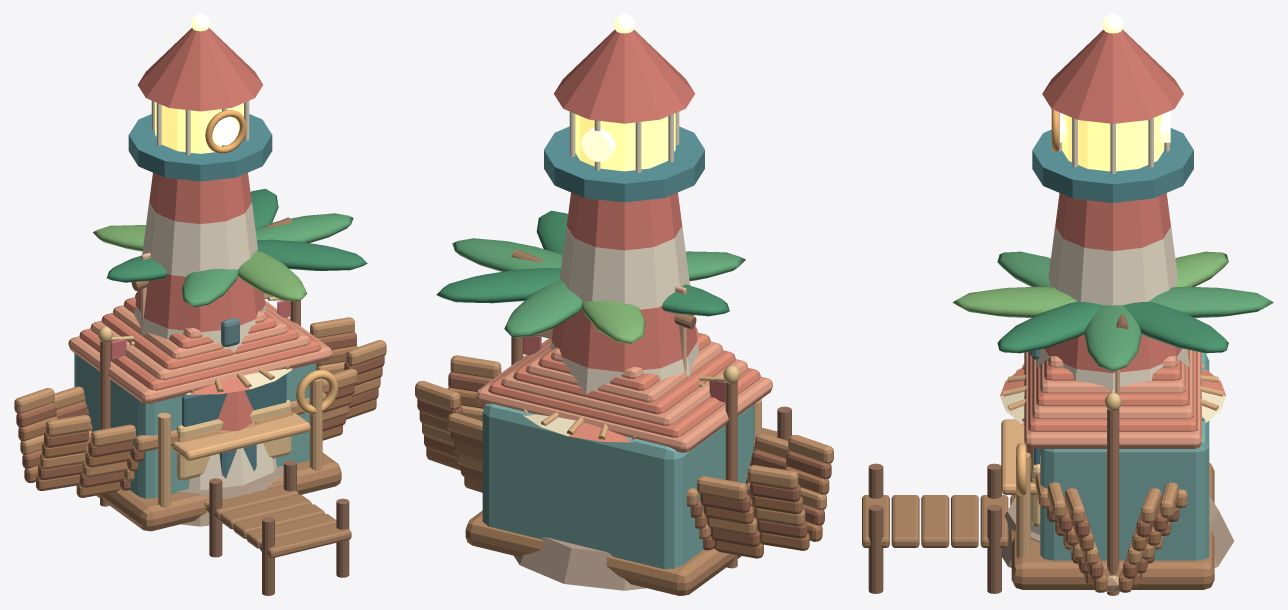
The model's file is praia.glb.
3 views of the same model, side by side, from view 1: azimuth 30°, elevation 25°; view 2: azimuth 150°, elevation 25°; view 3: azimuth 270°, elevation 25° (orthographic). The views are drawn at different scales.
Parts seen in each view (by area): view 1: Cone.002, Cone.001, Cube.059, Cube.015, Cone.018, Cube.011, Cube.016, Cube.136, Cube.041, Cone.007, Sphere.021, Cube.023 (+19 smaller); view 2: Cube.011, Cone.002, Cube.015, Cube.059, Cone.001, Cone.018, Cube.016, Cube.041, Sphere.020, Cone.007, Sphere.021, Cube.023 (+9 smaller); view 3: Cube.011, Cone.018, Cone.001, Cube.015, Cone.002, Sphere.020, Cube.136, Cone.007, Sphere.021, Cube.016, Cube.010, Sphere.022 (+13 smaller).
Boxes of the visible parts, x1,y1,x2,y2 form: Cone.002: [135, 173, 265, 431]; Cone.001: [134, 203, 276, 490]; Cube.059: [14, 317, 386, 480]; Cube.015: [68, 292, 332, 403]; Cone.018: [138, 28, 262, 111]; Cube.011: [74, 353, 316, 498]; Cube.016: [79, 297, 321, 390]; Cube.136: [204, 482, 351, 558]; Cube.041: [16, 332, 384, 490]; Cone.007: [128, 114, 272, 181]; Sphere.021: [107, 188, 367, 282]; Cube.023: [18, 346, 382, 497]; Cube.011: [482, 403, 754, 569]; Cone.002: [551, 192, 697, 372]; Cube.015: [476, 327, 772, 452]; Cube.059: [415, 355, 833, 539]; Cone.001: [550, 226, 698, 397]; Cone.018: [554, 29, 694, 123]; Cube.016: [488, 332, 760, 437]; Cube.041: [417, 372, 831, 550]; Sphere.020: [452, 238, 745, 337]; Cone.007: [544, 126, 704, 202]; Sphere.021: [436, 210, 729, 316]; Cube.023: [419, 387, 829, 558]; Cube.011: [1040, 352, 1209, 560]; Cone.018: [1042, 29, 1183, 123]; Cone.001: [1030, 226, 1189, 534]; Cube.015: [1024, 350, 1201, 448]; Cone.002: [1026, 193, 1182, 457]; Sphere.020: [997, 251, 1273, 371]; Cube.136: [862, 495, 1014, 547]; Cone.007: [1032, 128, 1193, 202]; Sphere.021: [997, 301, 1228, 353]; Cube.016: [1028, 349, 1197, 431]; Cube.010: [1011, 463, 1214, 589]; Sphere.022: [952, 251, 1228, 317].
Size of the model in its own units: 4.91 by 6.82 by 4.59.
